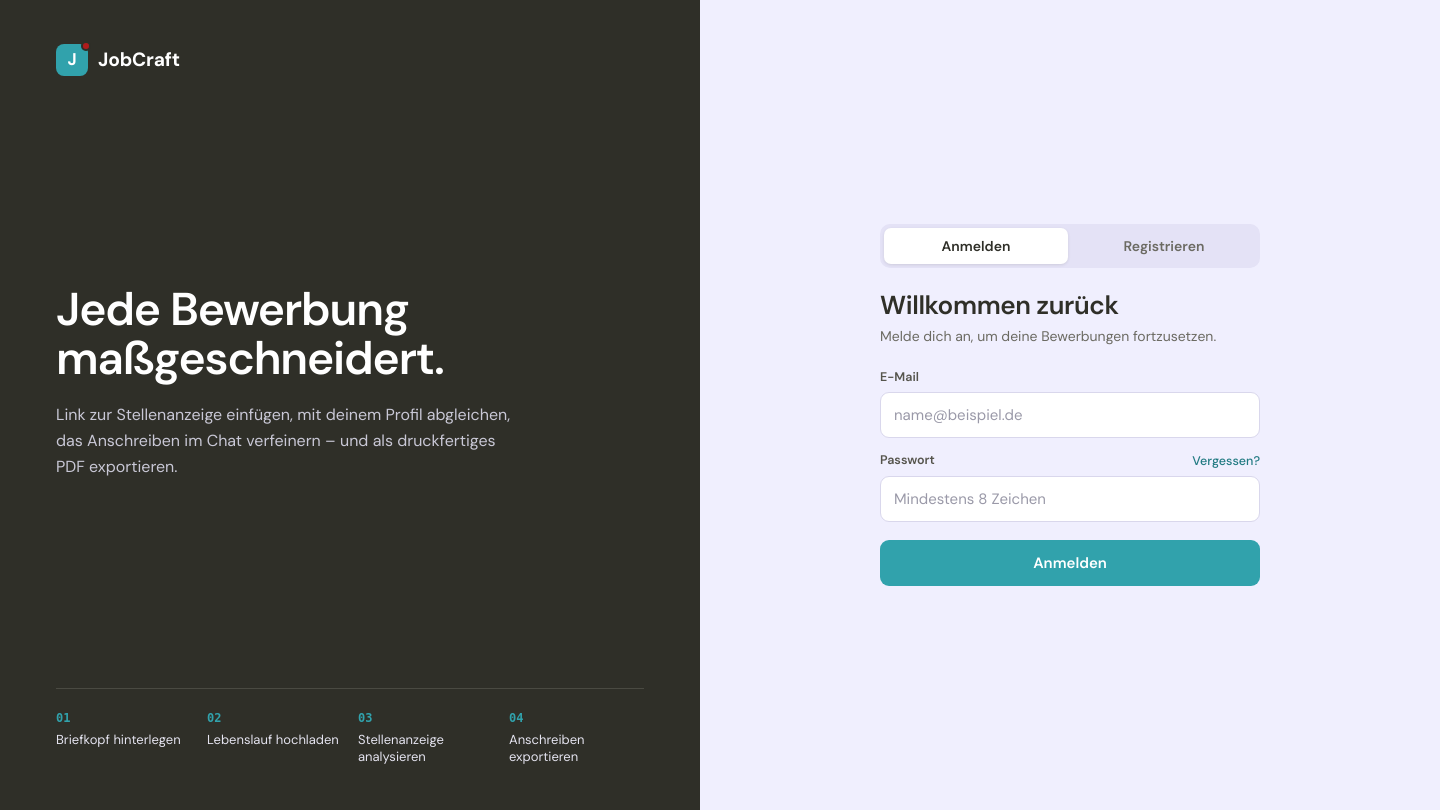
LoginComponent › requires a name when registering
Step 1. Click the tab "Registrieren" → (1164, 246), box [1072, 228, 1256, 264]
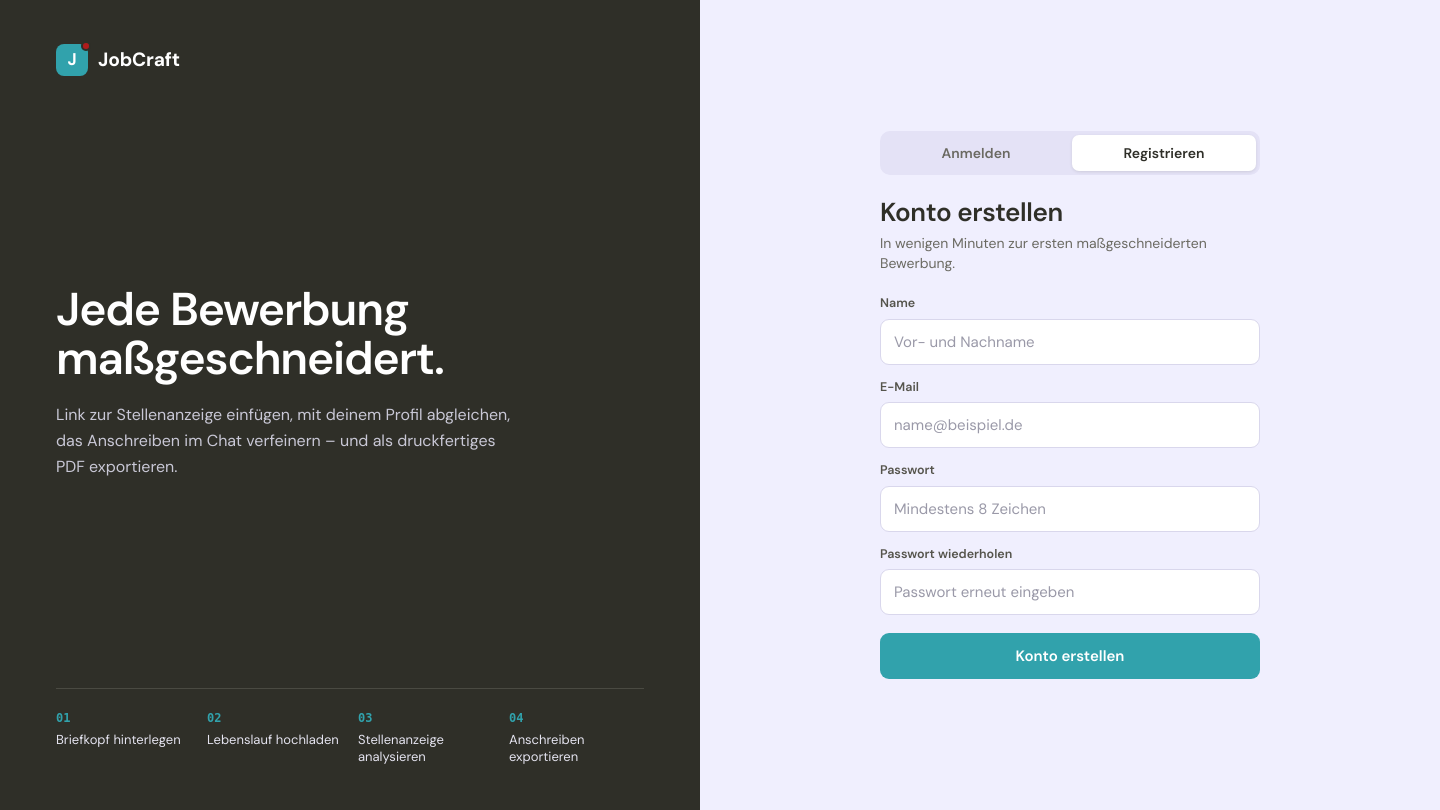
Check: the heading "Konto erstellen" is shown, box [880, 195, 1063, 229]
Step 2. Type "lena@example.de" into the field named "email" → (1070, 425), box [880, 402, 1260, 448]
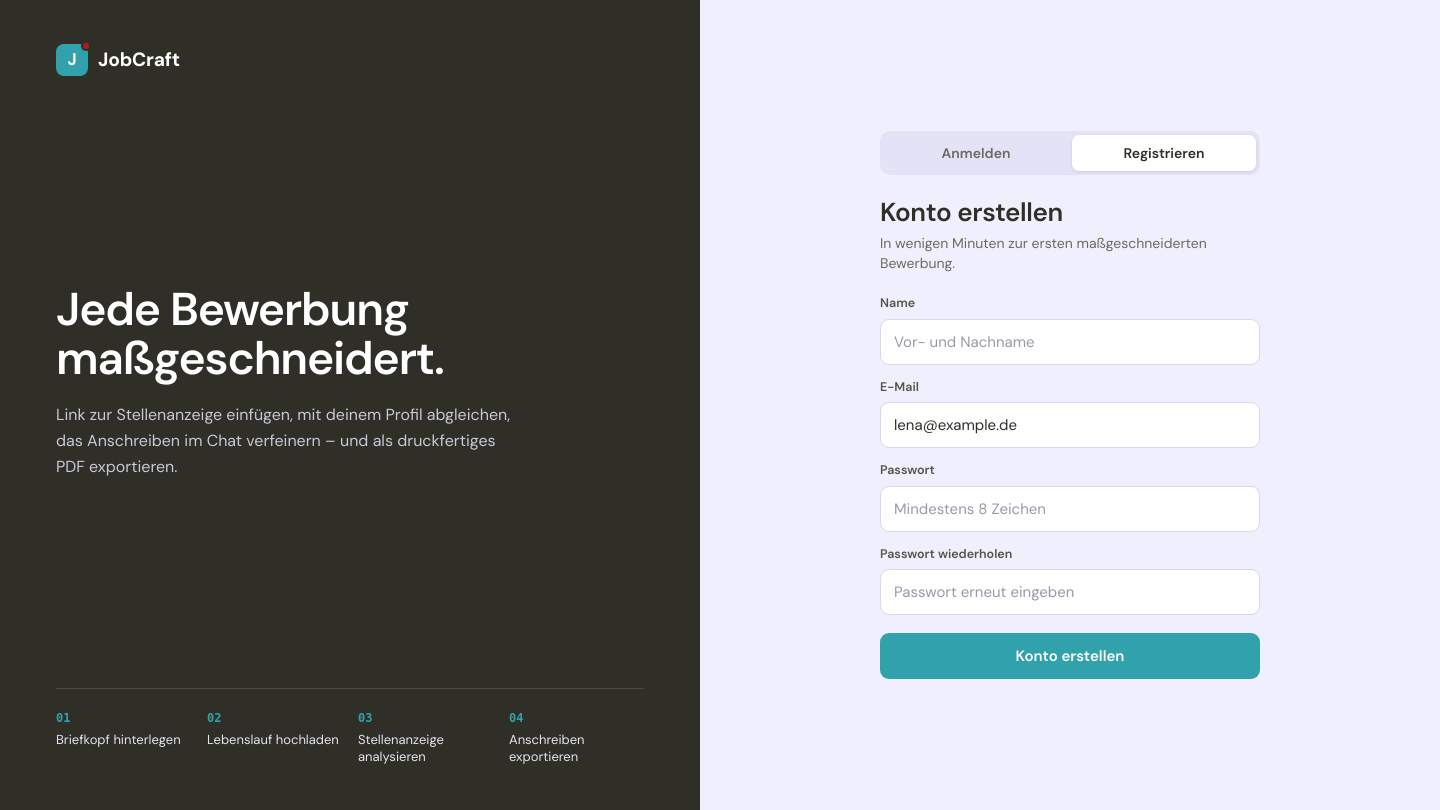
Step 3. Type "geheim123" into the password field named "password" → (1070, 509), box [880, 486, 1260, 532]
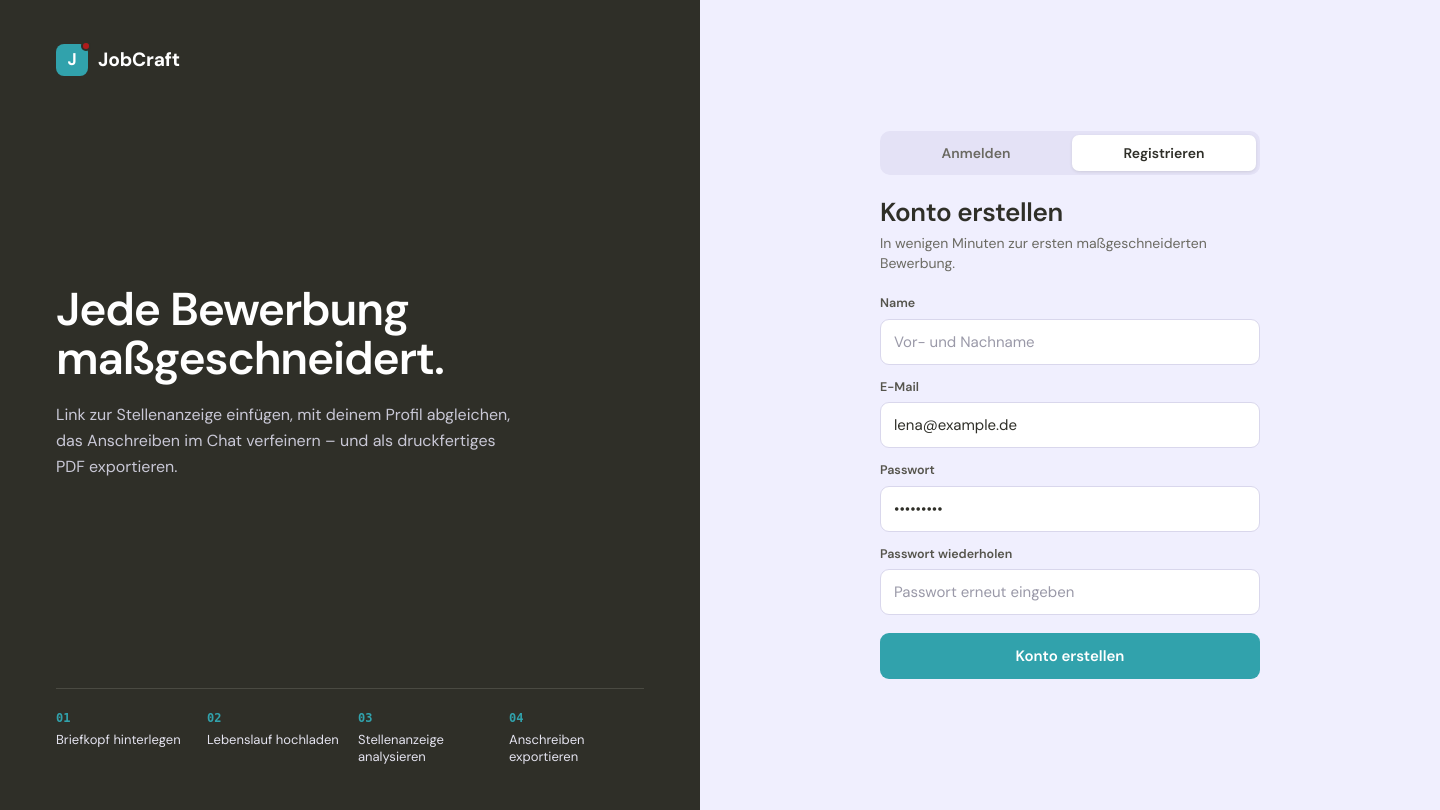
Step 4. Submit the form, box [880, 131, 1260, 679]
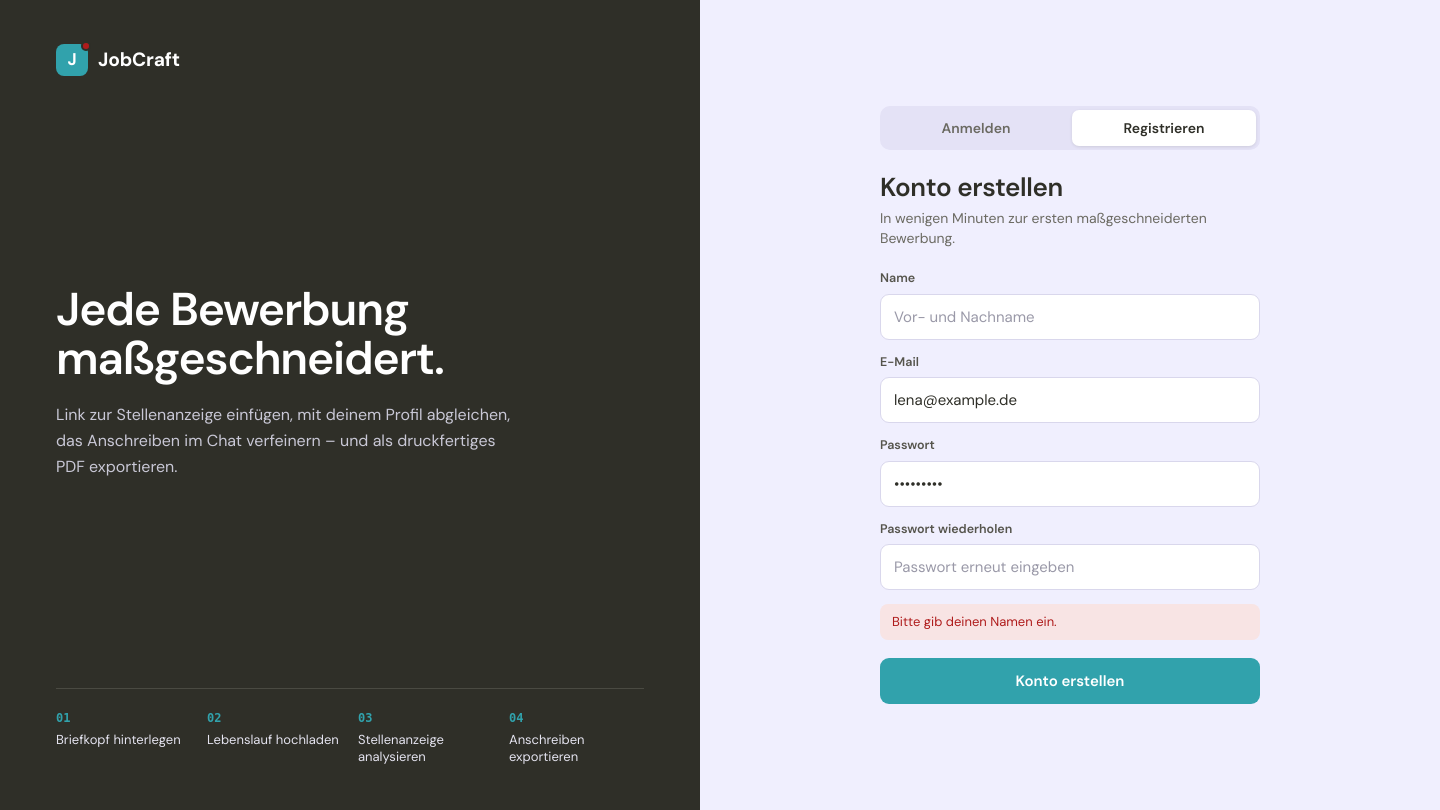
Check: the message "Bitte gib deinen Namen ein." is shown, box [880, 604, 1260, 640]
